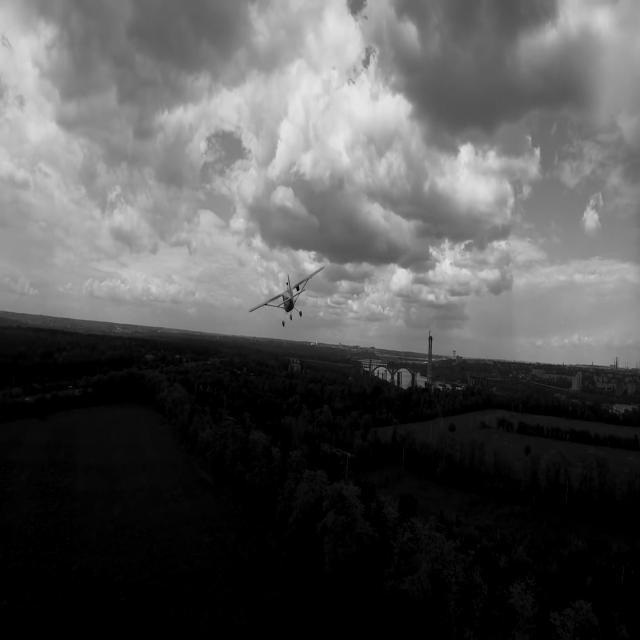iha: (280, 295, 296, 298)
